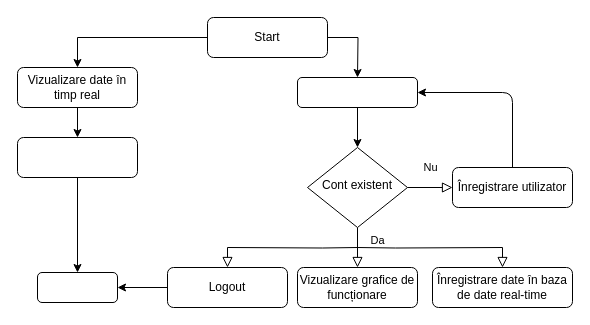
The diagram is 590 pixels wide and 325 high, and some of its shapes have lost their labels. The shapes that lost their labels are listed below. From the top down, each one's centre as x and y in pixels, then its label:
[357,92]: Logare utilizator
[77,157]: Închidere aplicație
[77,287]: Sfârșit
